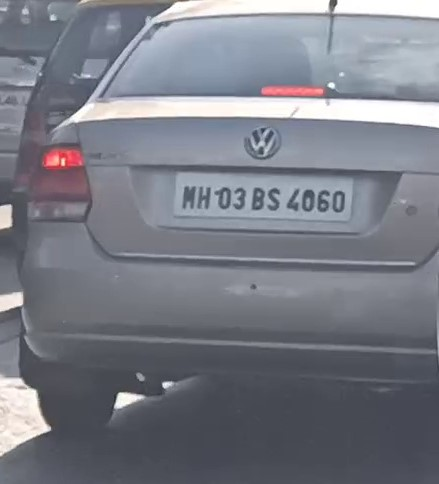MH03BS4060: (174, 172, 353, 222)
